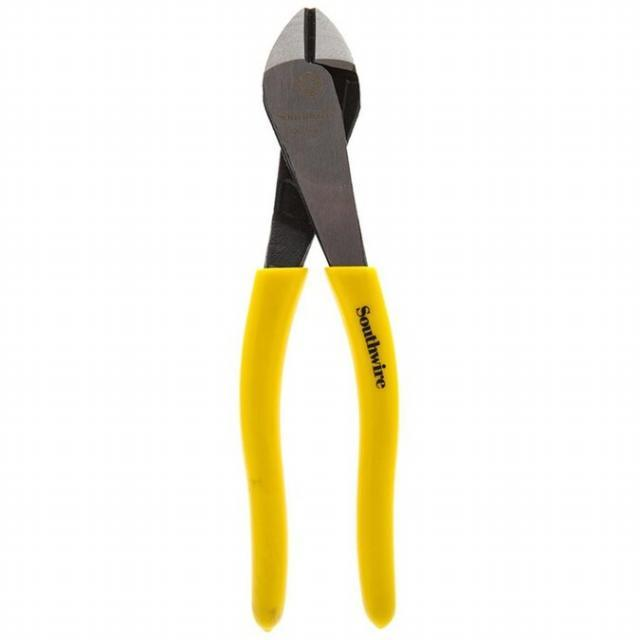pliers: (232, 2, 405, 632)
